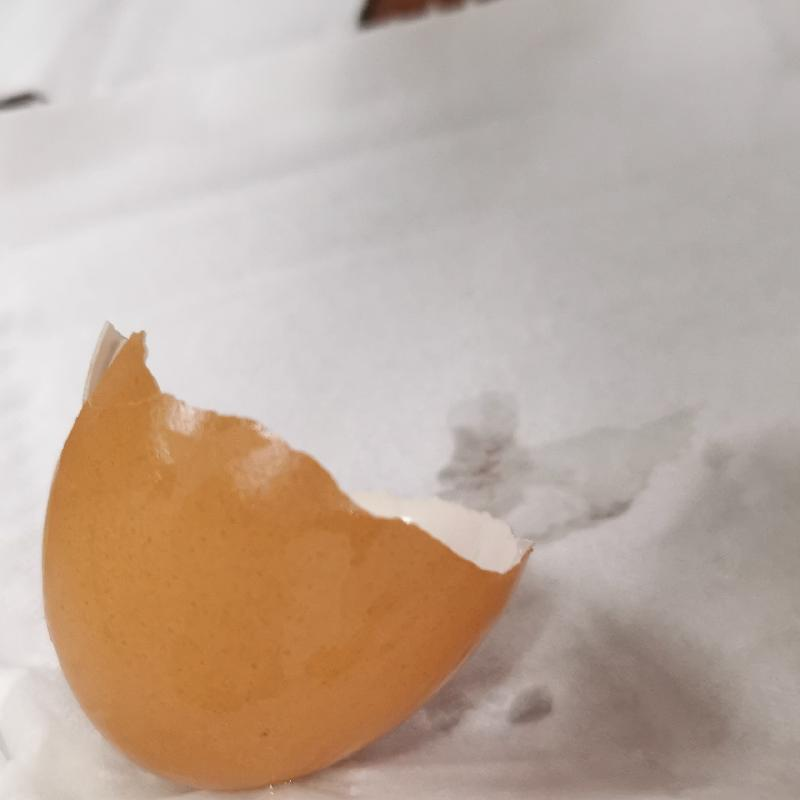eggshell: (39, 322, 536, 789)
